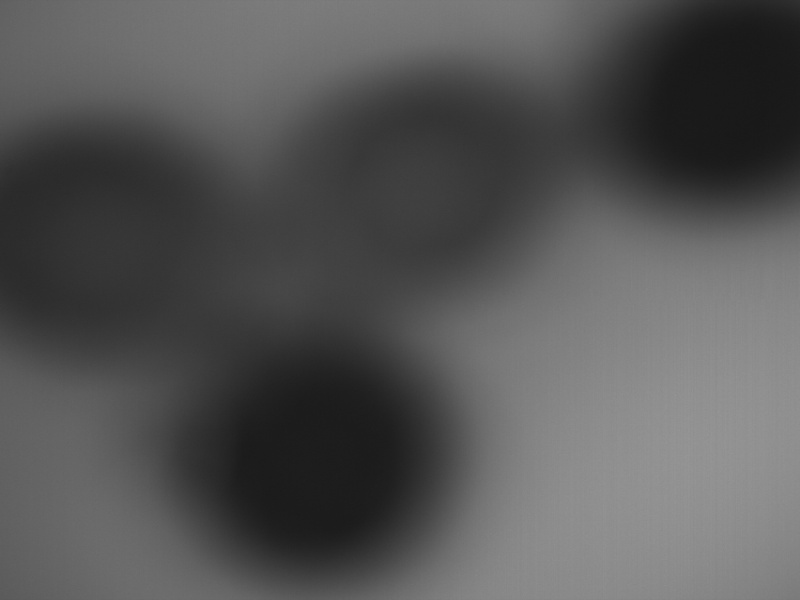bead: (180, 338, 433, 569), (323, 78, 539, 305), (3, 136, 214, 338), (613, 3, 800, 194)
